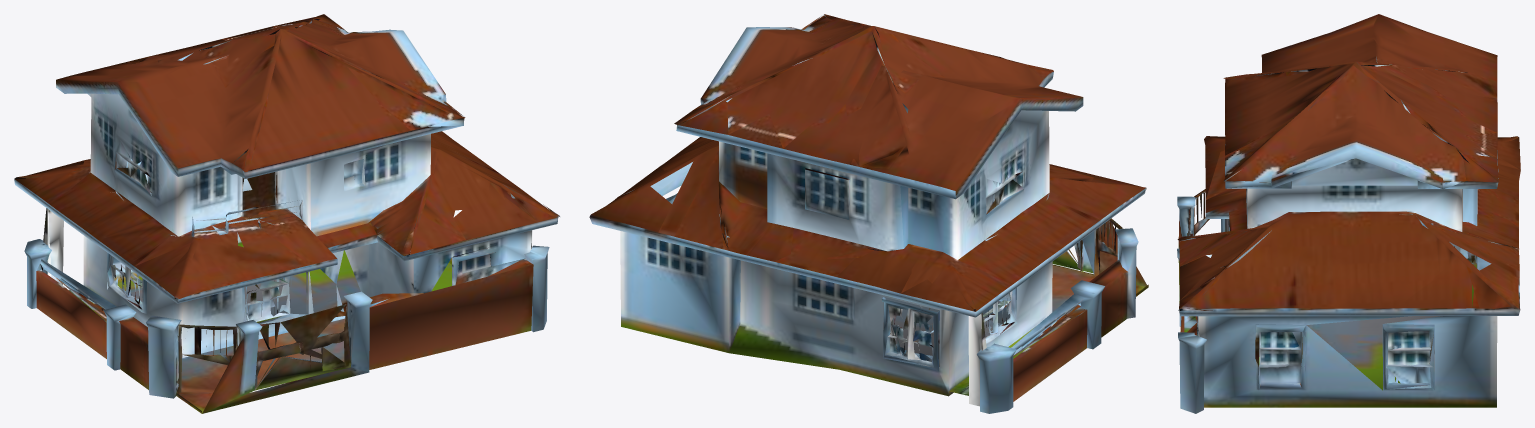
File: house-sky.glb
3 renders of one model, left to right at view 1: azimuth 30°, elevation 25°; view 2: azimuth 150°, elevation 25°; view 3: azimuth 270°, elevation 25°, orthographic. The views are drawn at different scales.
Parts seen in each view (by area): view 1: house; view 2: house; view 3: house.
Boxes of the visible parts, bbox=[...] form: house: bbox=[14, 14, 559, 413]; house: bbox=[589, 14, 1148, 413]; house: bbox=[1177, 14, 1520, 413].
Size of the model in its own units: 11 by 7.6 by 8.88.
1 material, 1 textured.
